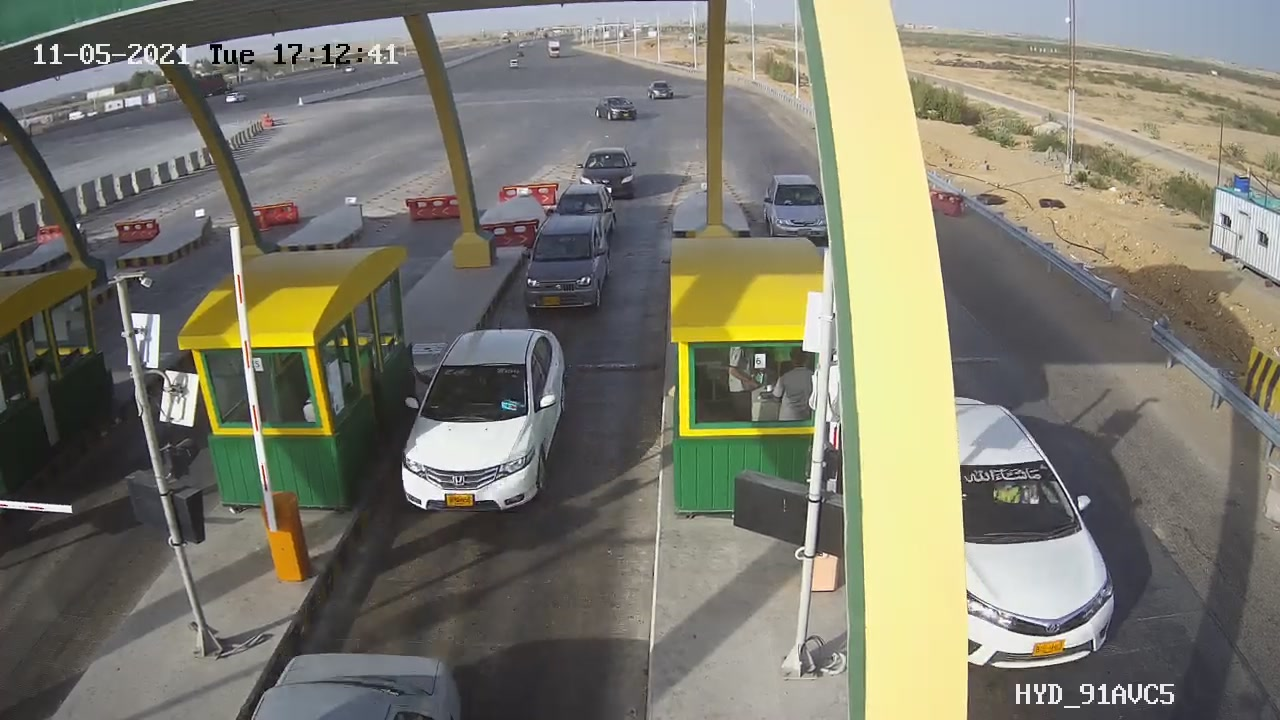F1: (382, 305, 590, 533), (504, 207, 629, 324)
